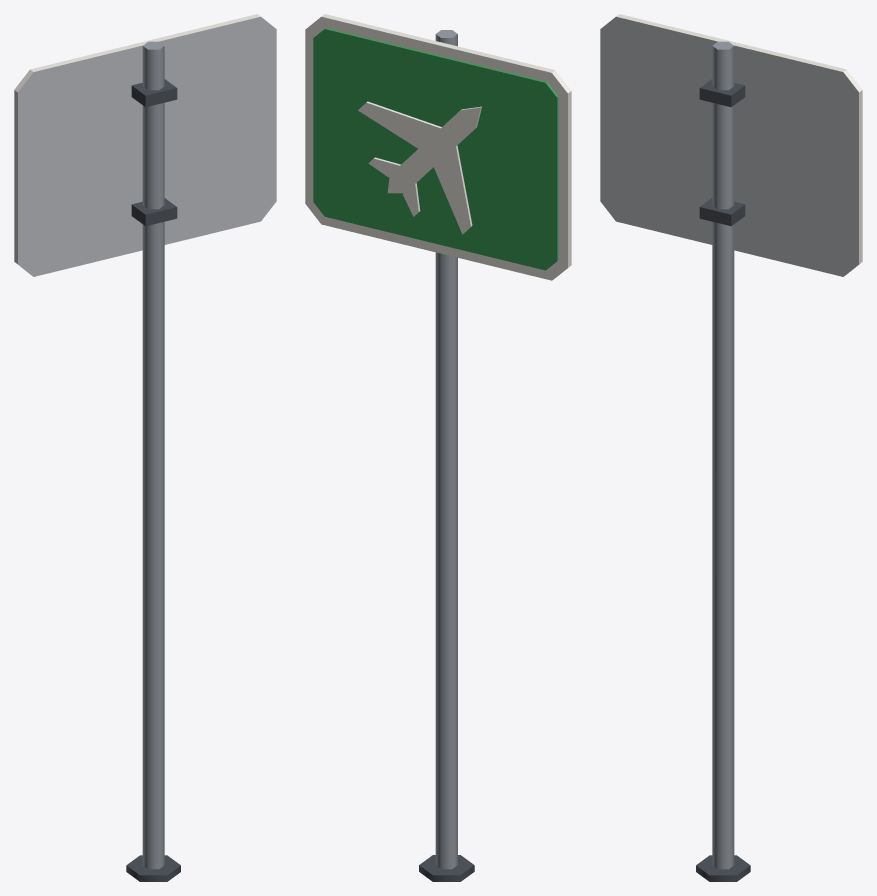
File: sign_airport.glb
3 views of the same model, side by side, from view 1: azimuth 30°, elevation 25°; view 2: azimuth 150°, elevation 25°; view 3: azimuth 330°, elevation 25° (orthographic).
Parts seen in each view (by area): view 1: sign_airport__mesh; view 2: sign_airport__mesh; view 3: sign_airport__mesh.
Part boxes in pixels (bbox=[...]): sign_airport__mesh: bbox=[14, 14, 276, 881]; sign_airport__mesh: bbox=[305, 14, 571, 881]; sign_airport__mesh: bbox=[600, 14, 862, 881].
Size of the model in its own units: 0.82 by 2.5 by 0.15.
1 material, 1 textured.
